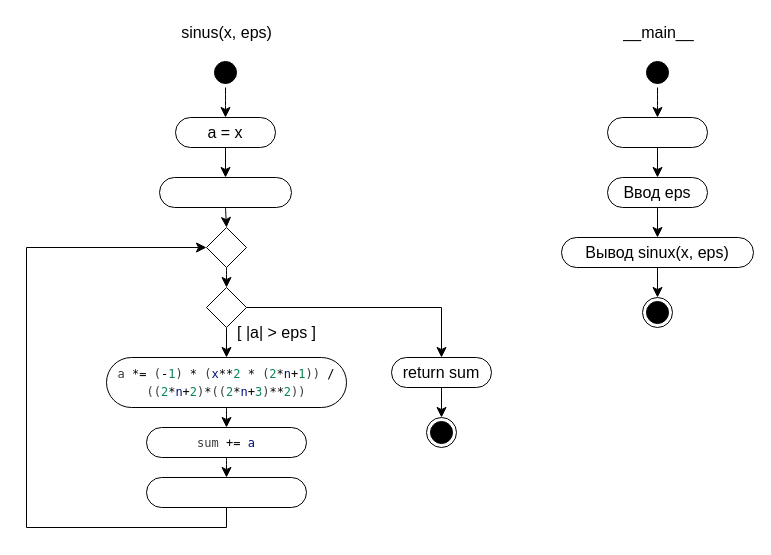
This 771x555 diagram has some shape labels left out. Here are the shapes that lost their labels. From the top down, the box of each, then its label:
(606, 116, 708, 148): Ввод x
(158, 176, 292, 208): sum, n = a, 1
(146, 476, 306, 508): n += 1
